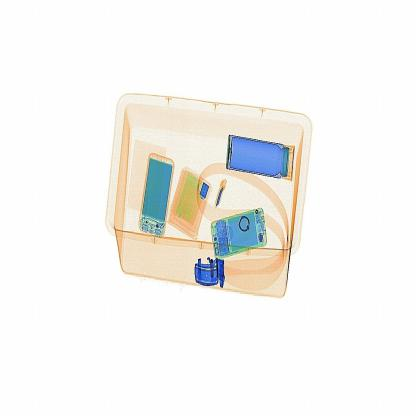wrench: (210, 174, 237, 210)
